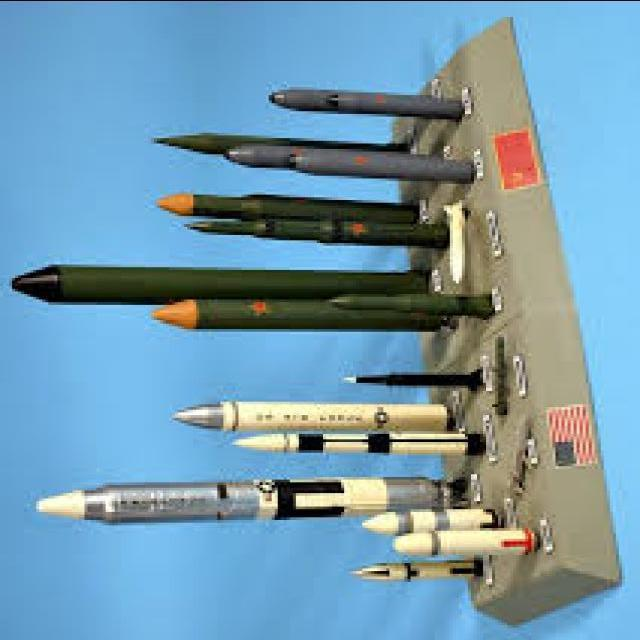Missile: (34, 466, 464, 528), (0, 262, 438, 313), (148, 293, 464, 343), (263, 75, 474, 127), (153, 395, 458, 429)
